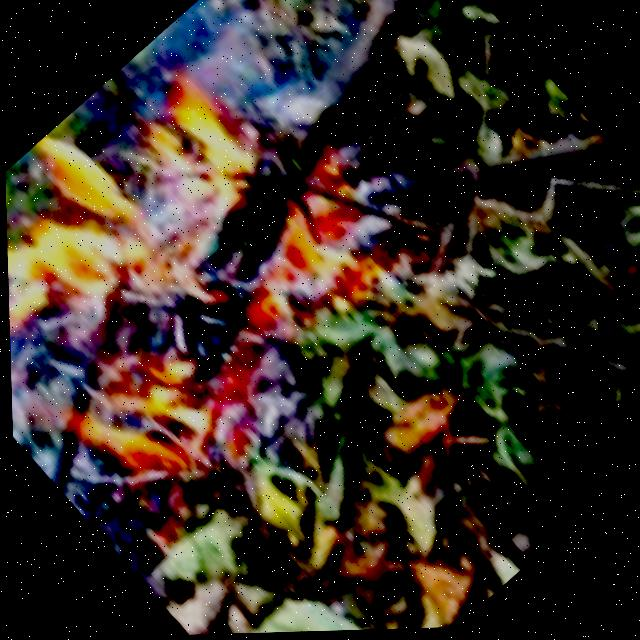Fire: (0, 6, 428, 528)
